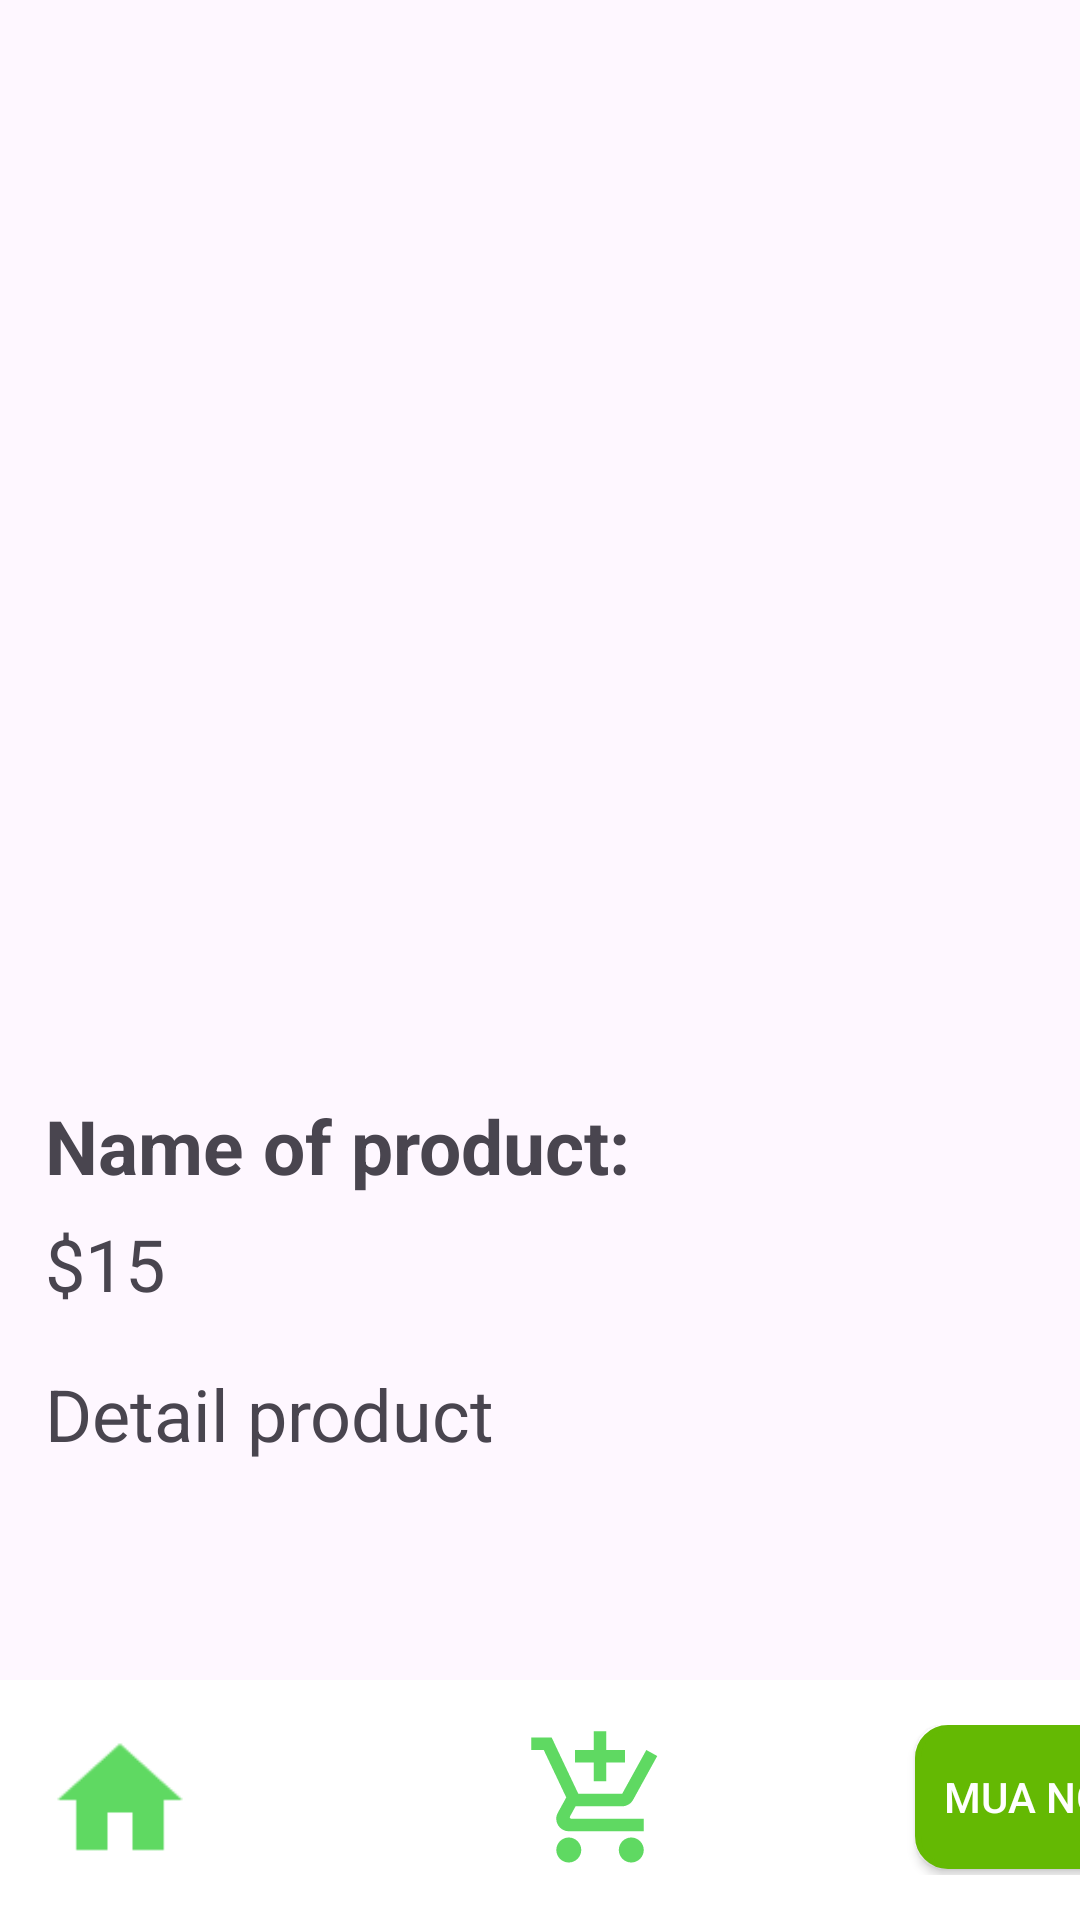

Locate icon controls on the screen. Image size 1080 x 1920, boxes as (left=x1, top=y1, right=x2, bottom=y2).
cart: (left=531, top=1731, right=657, bottom=1863)
home: (left=57, top=1743, right=183, bottom=1851)
